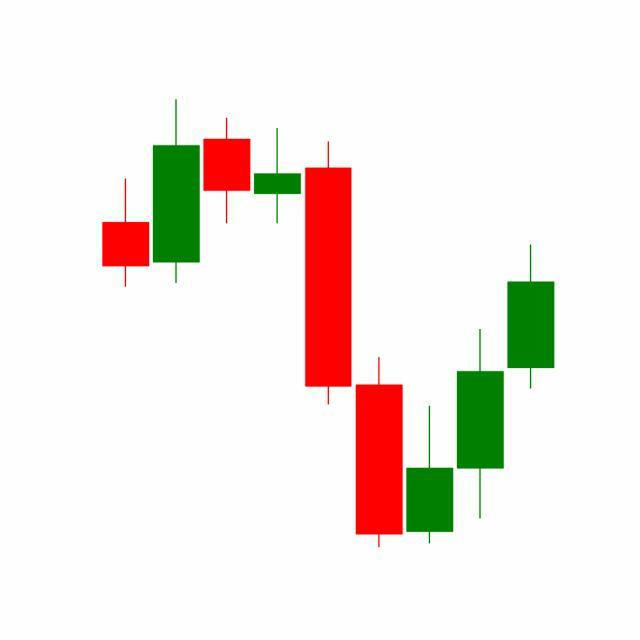Hikkake Pattern: (252, 124, 506, 548)
